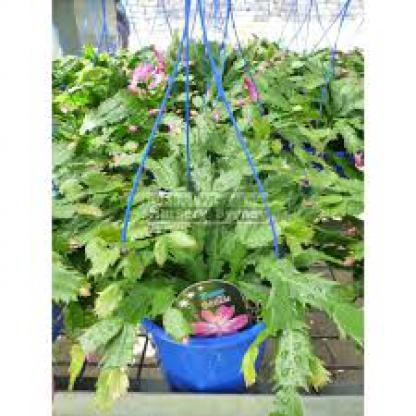Aglonema: (23, 28, 314, 395)
